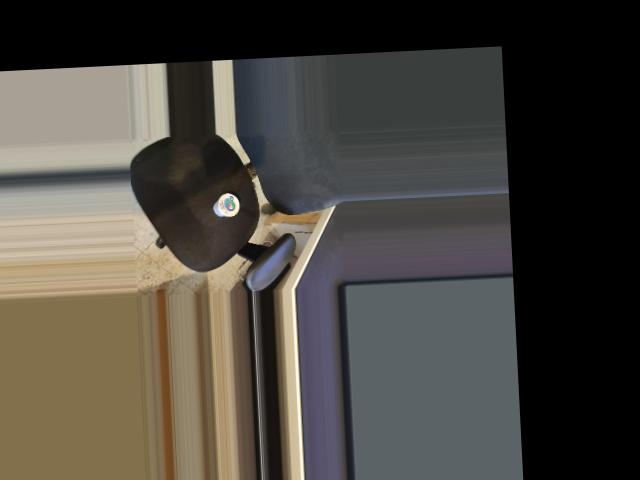cotage: (206, 188, 241, 218)
